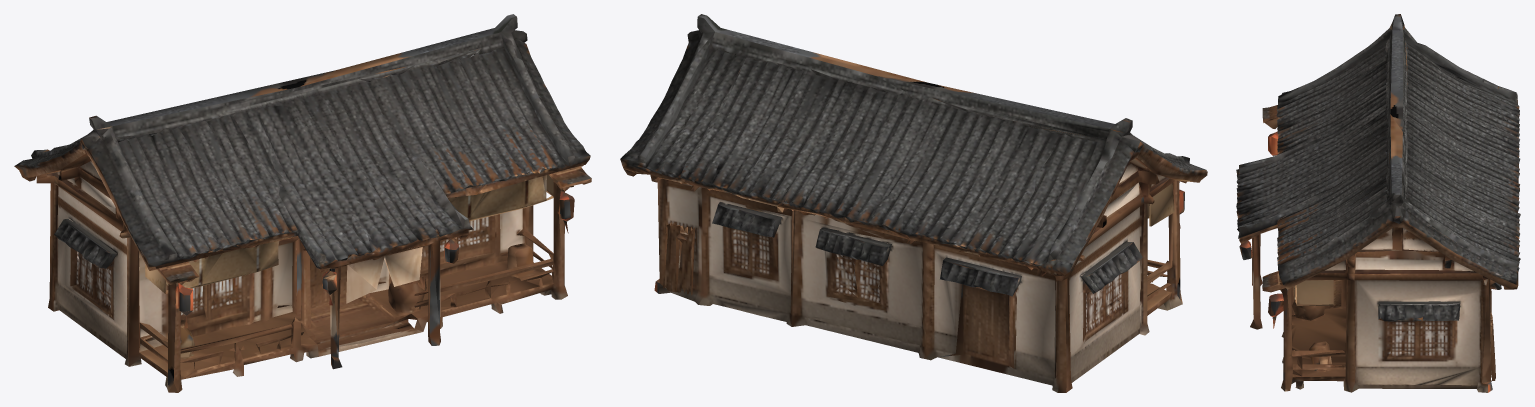
The model's file is 15_Small_Inn_LOD2.fbx.
3 renders of one model, left to right at view 1: azimuth 30°, elevation 25°; view 2: azimuth 150°, elevation 25°; view 3: azimuth 270°, elevation 25°, orthographic. The views are drawn at different scales.
Visible parts, largest first — view 1: 15_Small_Inn_L2; view 2: 15_Small_Inn_L2; view 3: 15_Small_Inn_L2.
Part boxes in pixels (<box>): 15_Small_Inn_L2: <box>14,14,591,392</box>; 15_Small_Inn_L2: <box>620,14,1207,392</box>; 15_Small_Inn_L2: <box>1236,14,1520,392</box>.
Bounding box in the file's own units: 12.02 × 6 × 7.64.
